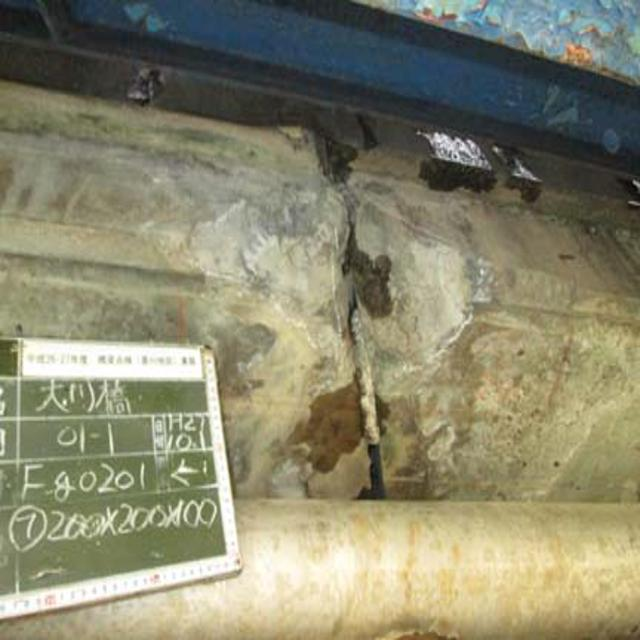spalling: (225, 187, 526, 422)
